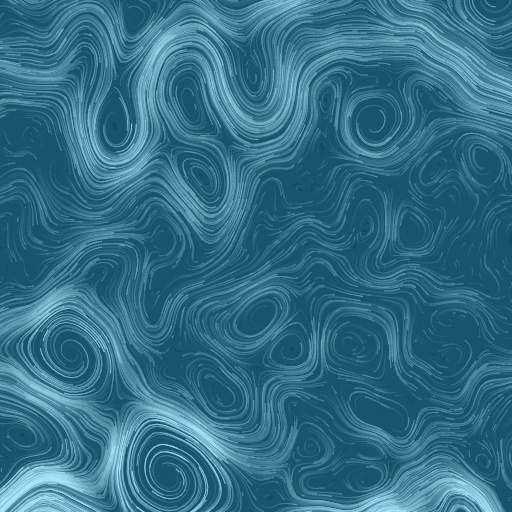eddy: (121, 430, 212, 511), (37, 318, 107, 390), (342, 88, 407, 155), (90, 84, 141, 162), (345, 387, 413, 443), (191, 360, 246, 420), (230, 285, 288, 340), (324, 317, 384, 367), (459, 134, 506, 192), (166, 70, 207, 134), (389, 203, 433, 257), (266, 320, 313, 369), (177, 153, 223, 202), (116, 1, 154, 45), (428, 302, 481, 333), (238, 52, 270, 100), (3, 418, 40, 453), (145, 221, 178, 258), (346, 463, 385, 494), (292, 432, 327, 464), (312, 80, 339, 119), (354, 212, 375, 244), (472, 451, 493, 470)
